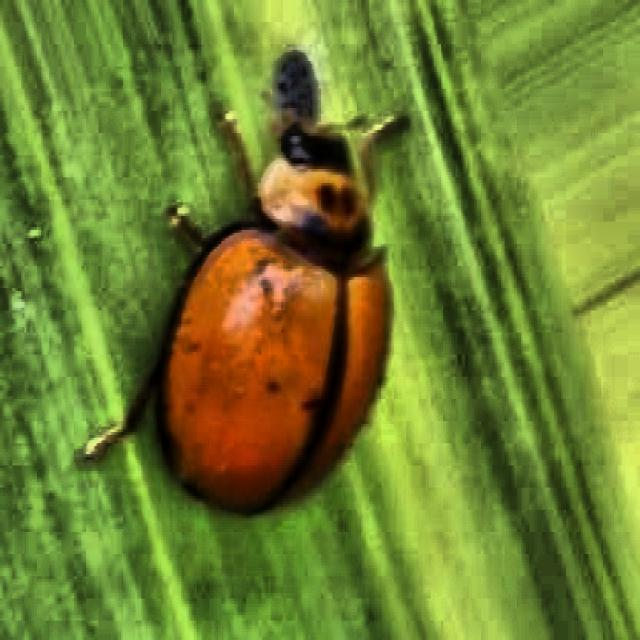Ladybug: (100, 35, 420, 539)
